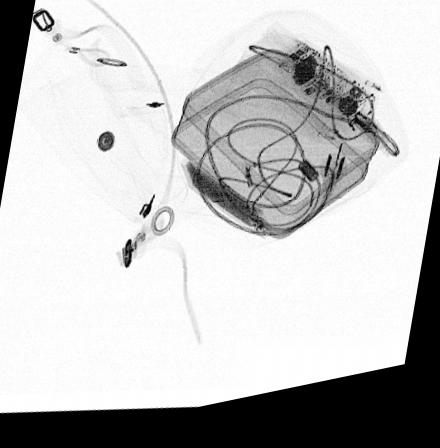Powerbank: (179, 165, 267, 251)
